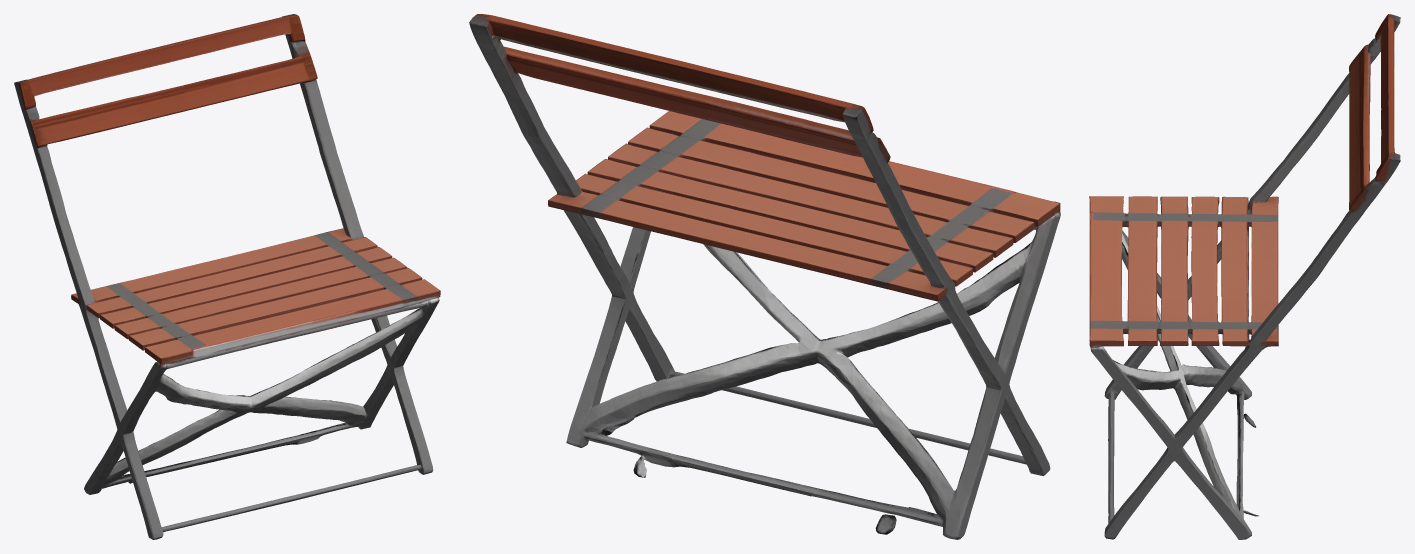
The model's file is appearance_edited_mesh.glb.
3 renders of one model, left to right at view 1: azimuth 30°, elevation 25°; view 2: azimuth 150°, elevation 25°; view 3: azimuth 270°, elevation 25°, orthographic. The views are drawn at different scales.
Parts seen in each view (by area): view 1: world; view 2: world; view 3: world.
Boxes of the visible parts, x1=… form: world: x1=14, y1=14, x2=440, y2=539; world: x1=469, y1=14, x2=1060, y2=539; world: x1=1089, y1=14, x2=1400, y2=539.
Bounding box in the file's own units: 0.579 × 0.7226 × 0.5232.
1 material, 1 textured.
